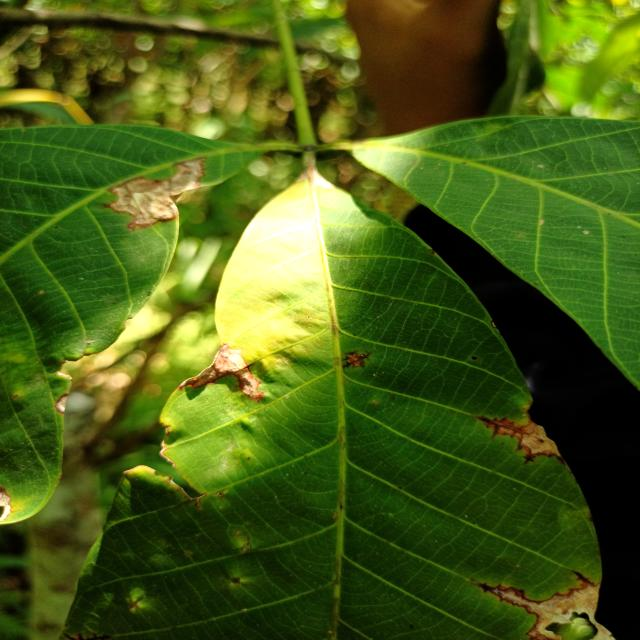Colletotrichum: (471, 356, 478, 360)
Corynespora: (475, 580, 532, 612), (478, 414, 529, 446), (517, 444, 564, 468), (566, 568, 598, 588), (342, 351, 374, 369), (61, 630, 113, 640)
Leaf-Blight: (109, 156, 205, 230), (180, 343, 266, 400), (536, 585, 618, 640), (523, 420, 562, 455), (57, 396, 68, 412)
